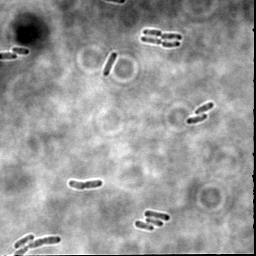Dividing: (14, 235, 62, 255), (142, 27, 182, 42), (139, 36, 181, 50), (68, 178, 103, 191)
Rod: (101, 51, 119, 77), (143, 209, 172, 223), (13, 232, 35, 250), (194, 100, 215, 116), (184, 113, 209, 125), (134, 220, 155, 233), (144, 216, 165, 228), (11, 46, 31, 56)
